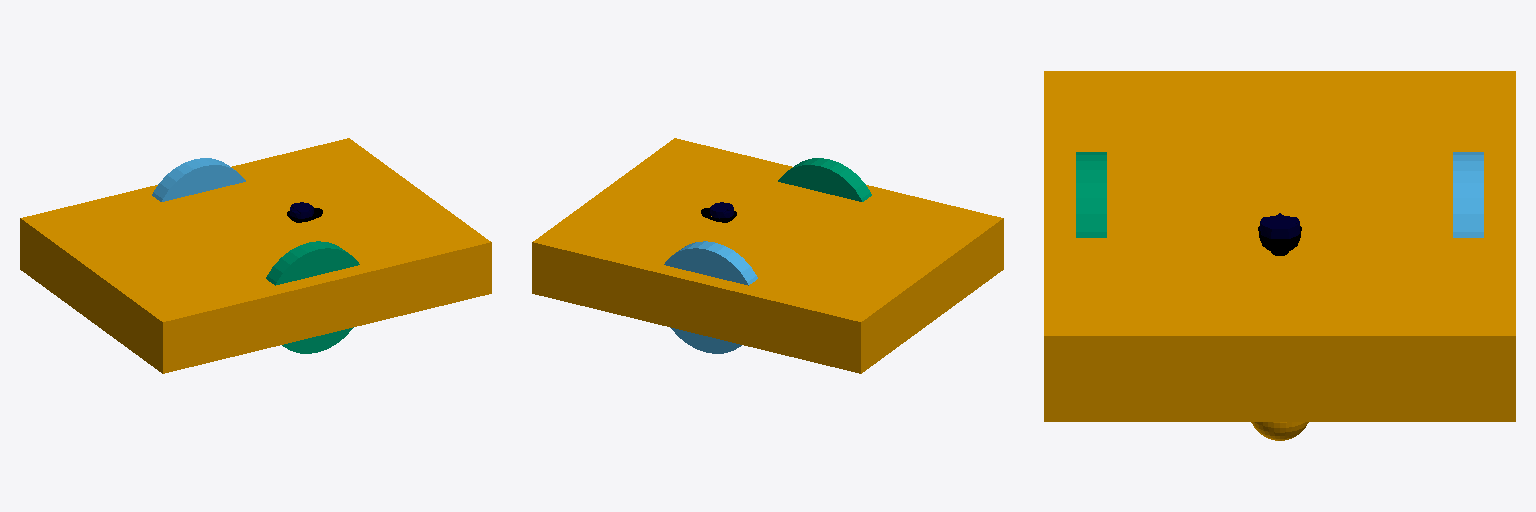
The robot description file, URDF, robot "amazon_robot2":
<?xml version="1.0" ?>
<robot name="amazon_robot2">
    <joint name="amazon_robot2__left_wheel_joint" type="fixed">
        <parent link="amazon_robot2__base"/>
        <child link="amazon_robot2__left_wheel"/>
        <origin rpy="0     1.5707 1.5707" xyz="0      0.27    0.04999"/>
        <axis xyz="-1.e+00  0.e+00  9.e-05"/>
        <limit effort="0" lower="0" upper="0" velocity="0"/>
    </joint>
    <joint name="amazon_robot2__right_wheel_joint" type="fixed">
        <parent link="amazon_robot2__base"/>
        <child link="amazon_robot2__right_wheel"/>
        <origin rpy="0     1.5707 1.5707" xyz="0   -0.27  0.05"/>
        <axis xyz="-1.e+00  0.e+00  9.e-05"/>
        <limit effort="0" lower="0" upper="0" velocity="0"/>
    </joint>
    <joint name="amazon_robot2__lidar_joint" type="fixed">
        <parent link="amazon_robot2__base"/>
        <child link="amazon_robot2__lidar"/>
        <origin rpy="0 0 0" xyz="-0.064  0     0.121"/>
        <axis xyz="0 0 1"/>
        <limit effort="0" lower="0" upper="0" velocity="0"/>
    </joint>
    <link name="amazon_robot2__base">
        <inertial>
            <mass value="2"/>
            <origin rpy="0 0 0" xyz="0   0   0.05"/>
            <inertia ixx="0.000" ixy="0.000" ixz="0.000" iyy="0.000" iyz="0.000" izz="0.000"/>
        </inertial>
        <collision name="amazon_robot2__base_collision">
            <origin rpy="0 0 0" xyz="0   0   0.05"/>
            <geometry>
                <box size="1 .750 .15"/>
            </geometry>
        </collision>
        <collision name="amazon_robot2__front_caster_collision">
            <origin rpy="0 0 0" xyz="0.4   0   -0.05"/>
            <geometry>
                <sphere radius=".05"/>
            </geometry>
        </collision>
        <collision name="amazon_robot2__back_caster_collision">
            <origin rpy="0 0 0" xyz="-0.4   0   -0.05"/>
            <geometry>
                <sphere radius=".05"/>
            </geometry>
        </collision>
        <visual name="amazon_robot2__base_visual">
            <origin rpy="0 0 0" xyz="0   0   0.05"/>
            <geometry>
                <box size="1 .750 .15"/>
            </geometry>
        </visual>
        <visual name="amazon_robot2__front_caster_visual">
            <origin rpy="0 0 0" xyz="0.4   0   -0.05"/>
            <geometry>
                <sphere radius=".05"/>
            </geometry>
        </visual>
        <visual name="amazon_robot2__back_caster_visual">
            <origin rpy="0 0 0" xyz="-0.4   0   -0.05"/>
            <geometry>
                <sphere radius=".05"/>
            </geometry>
        </visual>
    </link>
    <link name="amazon_robot2__left_wheel">
        <inertial>
            <mass value="0"/>
            <origin rpy="0 0 0" xyz="0 0 0"/>
            <inertia ixx="0" ixy="0" ixz="0" iyy="0" iyz="0" izz="0"/>
        </inertial>
        <collision name="amazon_robot2__collision">
            <origin rpy="0 0 0" xyz="0   0   0.03"/>
            <geometry>
                <cylinder length=".05" radius=".15"/>
            </geometry>
        </collision>
        <visual name="amazon_robot2__visual">
            <origin rpy="0 0 0" xyz="0   0   0.03"/>
            <geometry>
                <cylinder length=".05" radius=".15"/>
            </geometry>
        </visual>
    </link>
    <link name="amazon_robot2__right_wheel">
        <inertial>
            <mass value="0"/>
            <origin rpy="0 0 0" xyz="0 0 0"/>
            <inertia ixx="0" ixy="0" ixz="0" iyy="0" iyz="0" izz="0"/>
        </inertial>
        <collision name="amazon_robot2__collision">
            <origin rpy="0 0 0" xyz="0    0   -0.03"/>
            <geometry>
                <cylinder length=".05" radius=".15"/>
            </geometry>
        </collision>
        <visual name="amazon_robot2__visual">
            <origin rpy="0 0 0" xyz="0    0   -0.03"/>
            <geometry>
                <cylinder length=".05" radius=".15"/>
            </geometry>
        </visual>
    </link>
    <link name="amazon_robot2__lidar">
        <inertial>
            <mass value="0.125"/>
            <origin rpy="0 0 0" xyz="0.139 0    0.15"/>
            <inertia ixx="0.001" ixy="0.000" ixz="0.000" iyy="0.001" iyz="0.000" izz="0.001"/>
        </inertial>
        <collision name="amazon_robot2__lidar_sensor_collision">
            <origin rpy="0 0 0" xyz="0.203 0    0.029"/>
            <geometry>
                <cylinder length="0.055" radius="0.0508"/>
            </geometry>
        </collision>
        <visual name="amazon_robot2__lidar_sensor_visual">
            <origin rpy="0 0 0" xyz="0.203 0    0.029"/>
            <geometry>
                <mesh filename="package://amazon_robot_gazebo/models/amazon_robot/meshes/lds.dae"
                      scale="0.001 0.001 0.001"/>
            </geometry>
        </visual>
    </link>
</robot>

--- Facts derived from the render (not from the file) ---
Views: 3 orthographic renders of the robot side by side, from view 1: azimuth 30°, elevation 25°; view 2: azimuth 150°, elevation 25°; view 3: azimuth 270°, elevation 25°.
Robot: amazon_robot2 — 4 links, 3 joints (3 fixed); root link amazon_robot2__base; default pose: every joint at zero.
Links seen in each view (by area): view 1: amazon_robot2__base, amazon_robot2__right_wheel, amazon_robot2__left_wheel, amazon_robot2__lidar; view 2: amazon_robot2__base, amazon_robot2__left_wheel, amazon_robot2__right_wheel, amazon_robot2__lidar; view 3: amazon_robot2__base, amazon_robot2__left_wheel, amazon_robot2__right_wheel, amazon_robot2__lidar.
Link boxes in pixels (left/top/right/bottom): amazon_robot2__base: left=20, top=138, right=491, bottom=373; amazon_robot2__right_wheel: left=266, top=241, right=359, bottom=353; amazon_robot2__left_wheel: left=152, top=158, right=245, bottom=201; amazon_robot2__lidar: left=287, top=202, right=322, bottom=222; amazon_robot2__base: left=532, top=138, right=1003, bottom=373; amazon_robot2__left_wheel: left=664, top=241, right=757, bottom=353; amazon_robot2__right_wheel: left=778, top=158, right=871, bottom=201; amazon_robot2__lidar: left=701, top=202, right=736, bottom=222; amazon_robot2__base: left=1044, top=71, right=1515, bottom=440; amazon_robot2__left_wheel: left=1453, top=152, right=1483, bottom=237; amazon_robot2__right_wheel: left=1076, top=152, right=1106, bottom=237; amazon_robot2__lidar: left=1258, top=213, right=1301, bottom=255.
Bounding box of the posed robot: 1 × 0.75 × 0.3 m (x, y, z).
Meshes: 1 distinct files referenced, 1 mesh visuals loaded (1 Collada DAE).